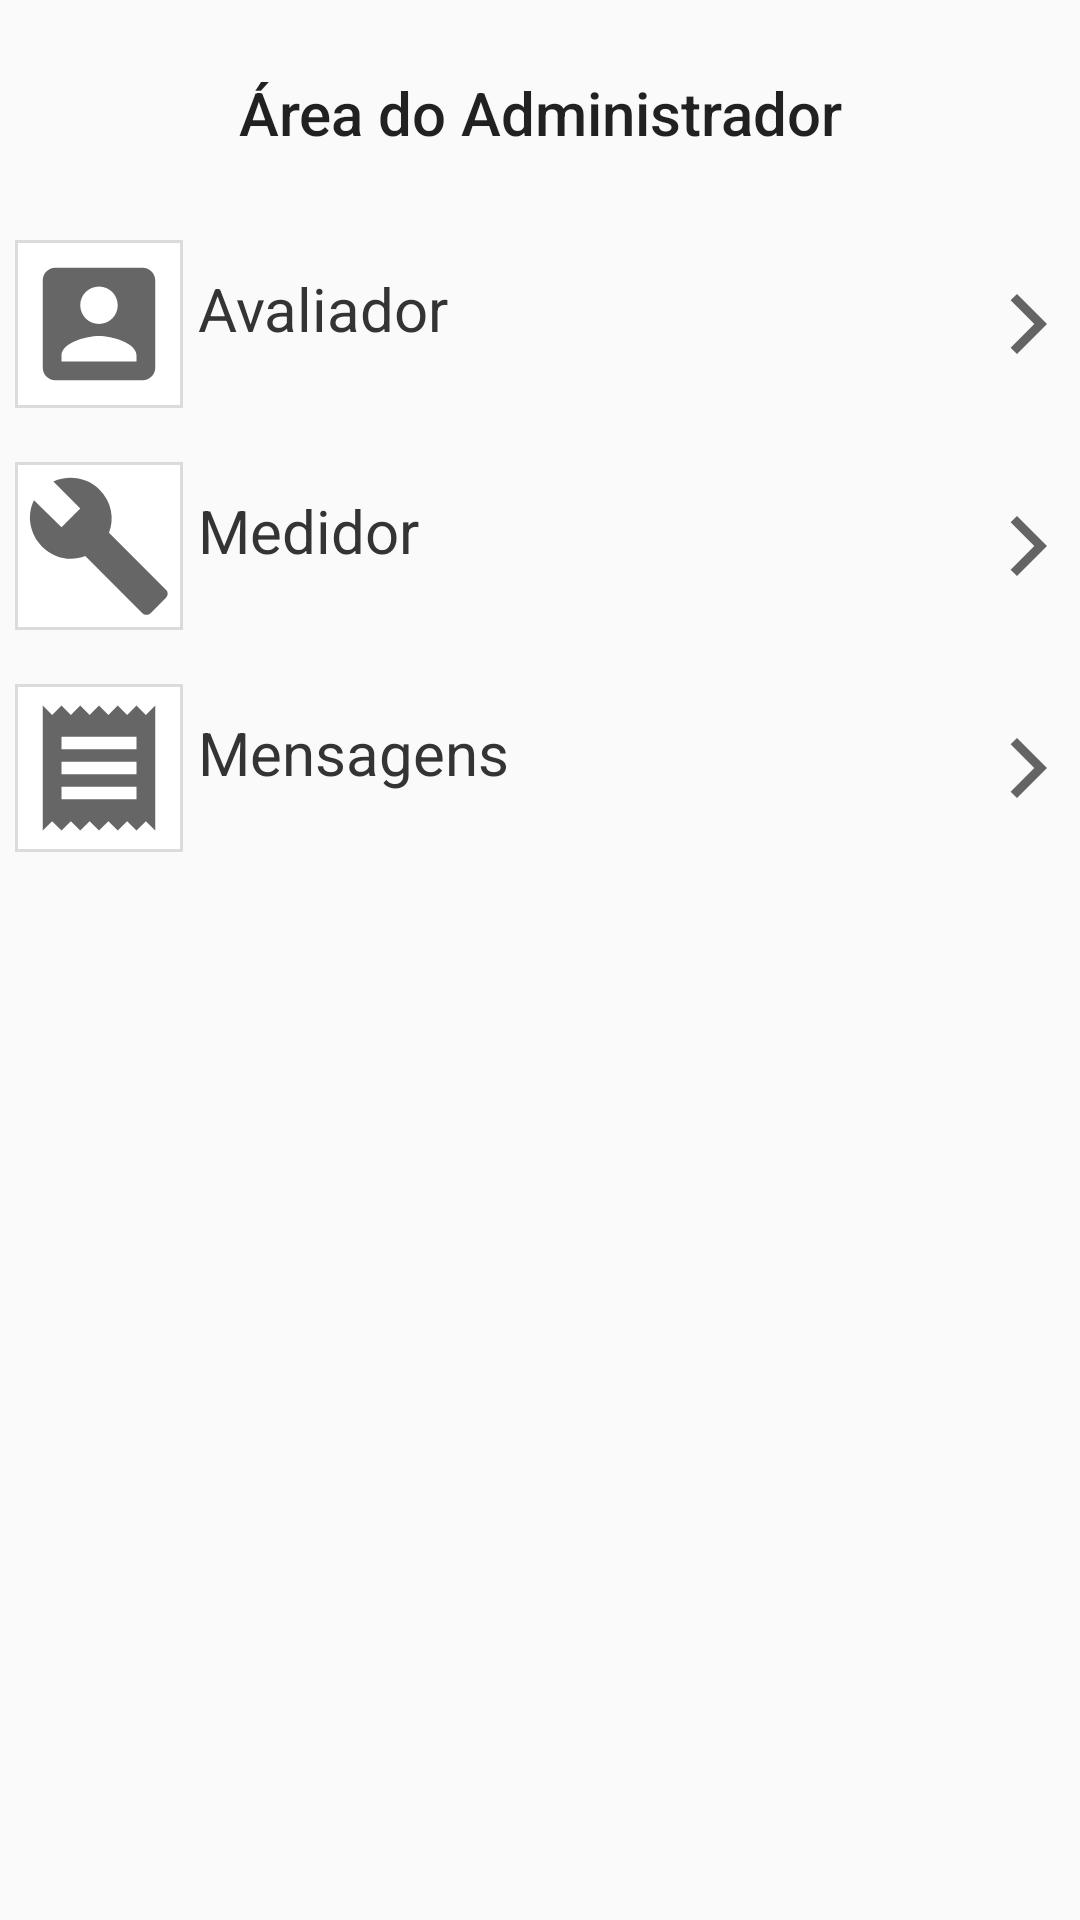

Where to tap for icons on this 1080 × 1920 app screen, as point (x, y):
account box: point (99, 324)
arrow forward: point (1029, 324), point (1029, 546), point (1029, 768)
build: point (99, 546)
receipt: point (99, 768)
